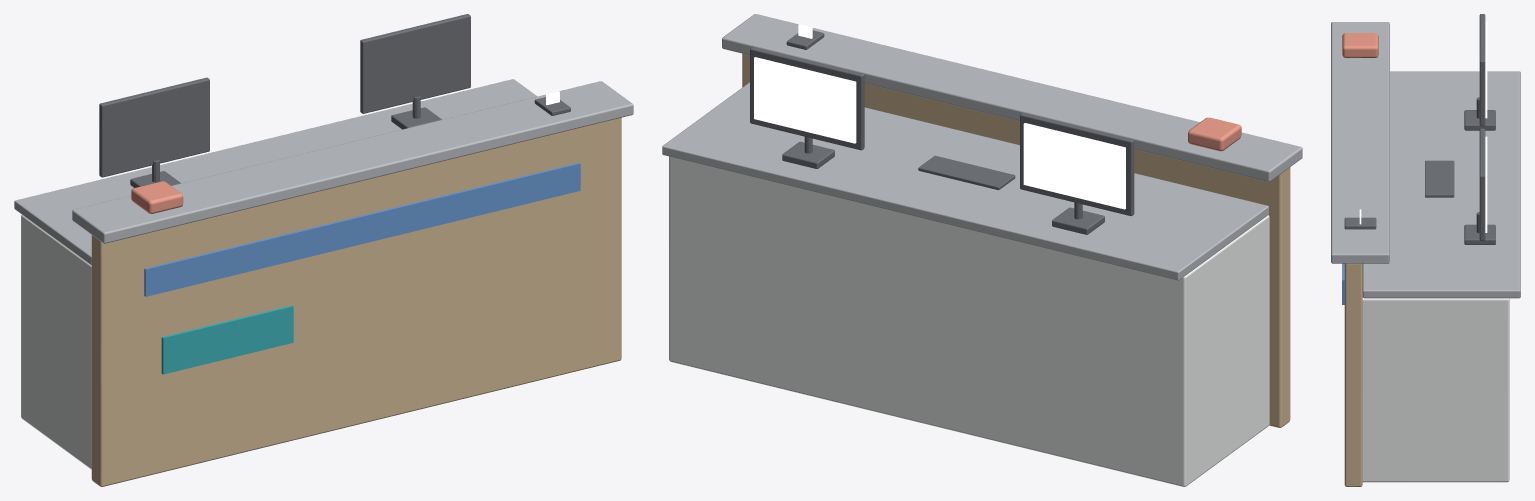
File: reception-desk.glb
3 views of the same model, side by side, from view 1: azimuth 30°, elevation 25°; view 2: azimuth 150°, elevation 25°; view 3: azimuth 270°, elevation 25° (orthographic). The views are drawn at different scales.
Visible parts, largest first — view 1: reception-desk; view 2: reception-desk; view 3: reception-desk.
Part boxes in pixels (box(x1,y1,x2,y2)): reception-desk: box(14, 14, 633, 486); reception-desk: box(662, 14, 1302, 486); reception-desk: box(1331, 14, 1520, 486).
Size of the model in its own units: 2.44 by 1.36 by 0.84.
